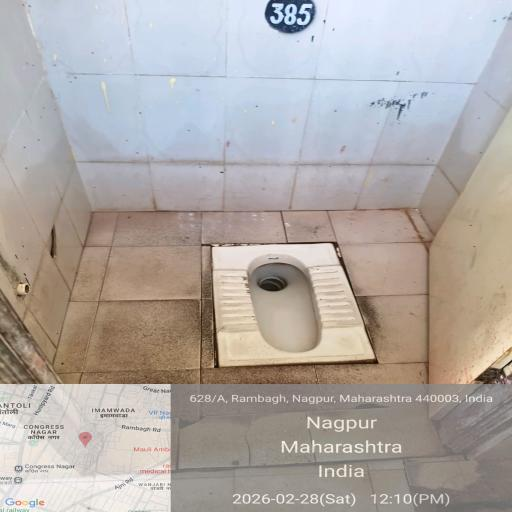clean_floor: (32, 0, 502, 204)
dirty_floor: (66, 176, 208, 470), (245, 375, 465, 495)
partial_dirty_indian: (215, 230, 436, 377)
